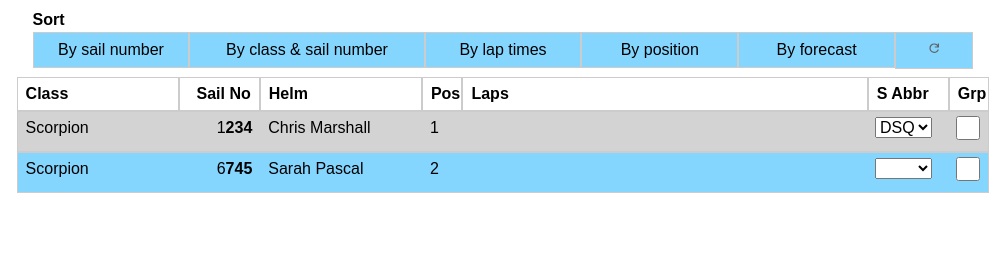
it: when fast grouping entries › does not allow an entry with a scoring abbreviation to be fast grouped
The image size is (1006, 266).
Click the checkbox in the row of "Chris Marshall" at (968, 128), box [956,116,980,140]
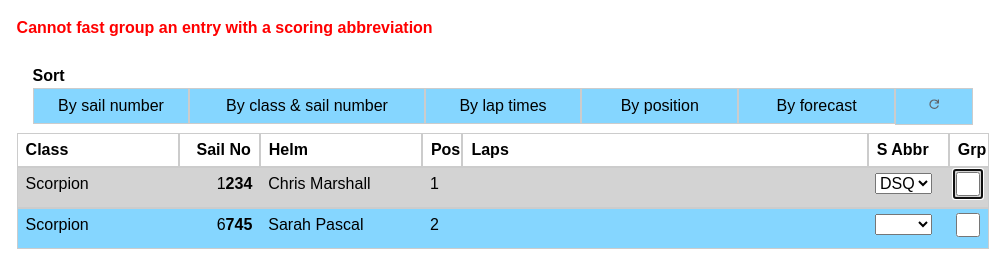
Expected: the checkbox in the row of "Chris Marshall" is not checked, [956,172,980,196]
Expected: the text "Cannot fast group an entry with a scoring abbreviation" is shown, [17,19,433,36]
